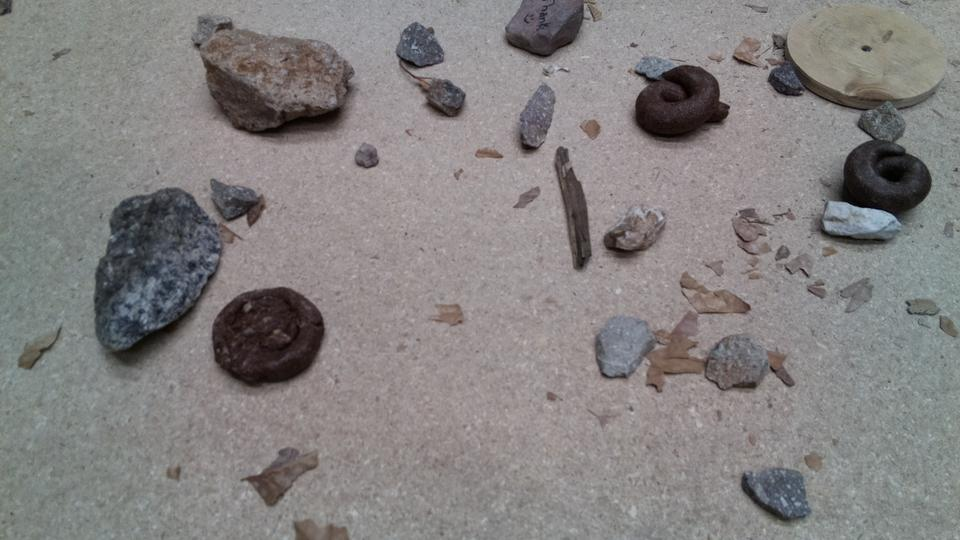poop: (209, 284, 326, 388), (633, 64, 733, 139), (841, 136, 934, 214)
